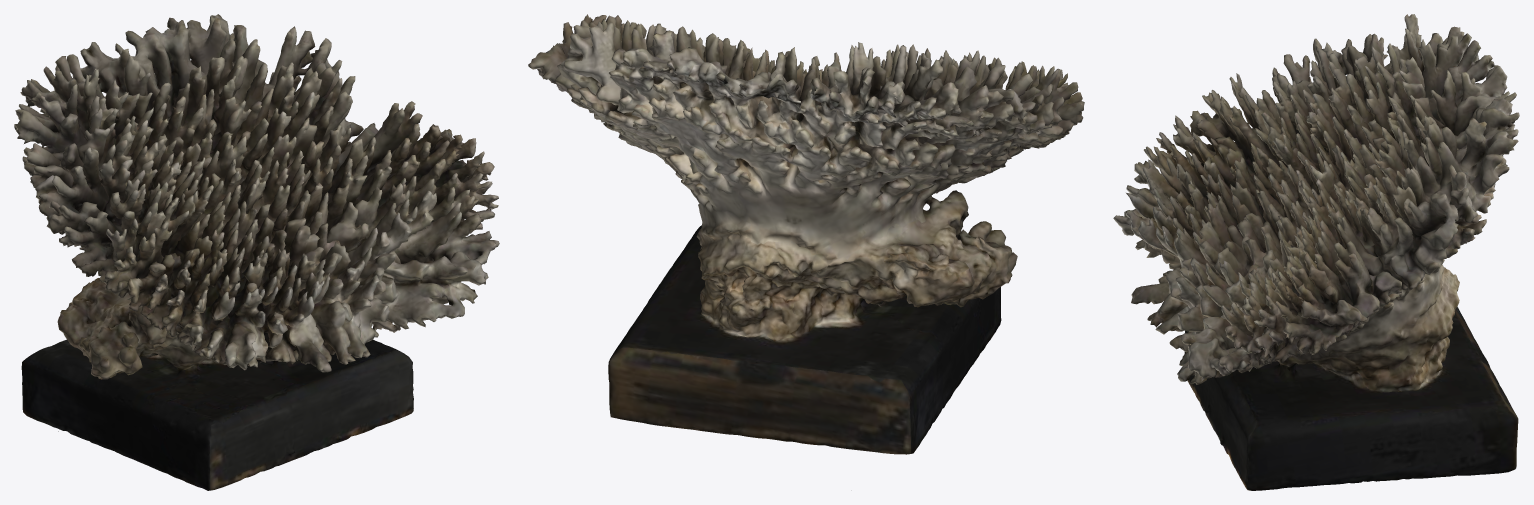
The model's file is acropora-hyacinthus.glb.
3 renders of one model, left to right at view 1: azimuth 30°, elevation 25°; view 2: azimuth 150°, elevation 25°; view 3: azimuth 270°, elevation 25°, orthographic. The views are drawn at different scales.
Size of the model in its own units: 289 by 235 by 229.
Materials: 1 (1 with a texture image).
